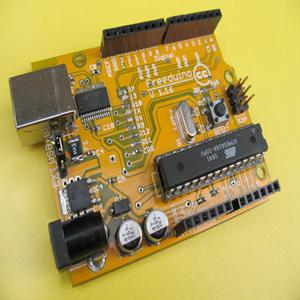duino: (12, 6, 284, 287)
